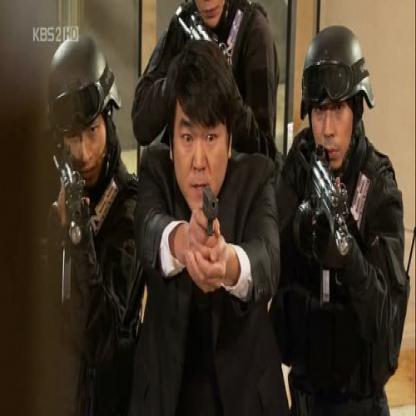Guns: (296, 136, 348, 308), (49, 138, 85, 306), (198, 184, 221, 250)
